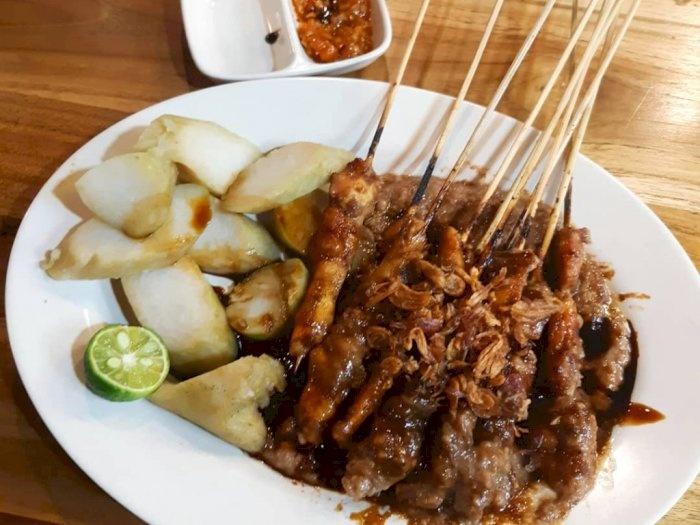sate_madura: (301, 71, 652, 516)
